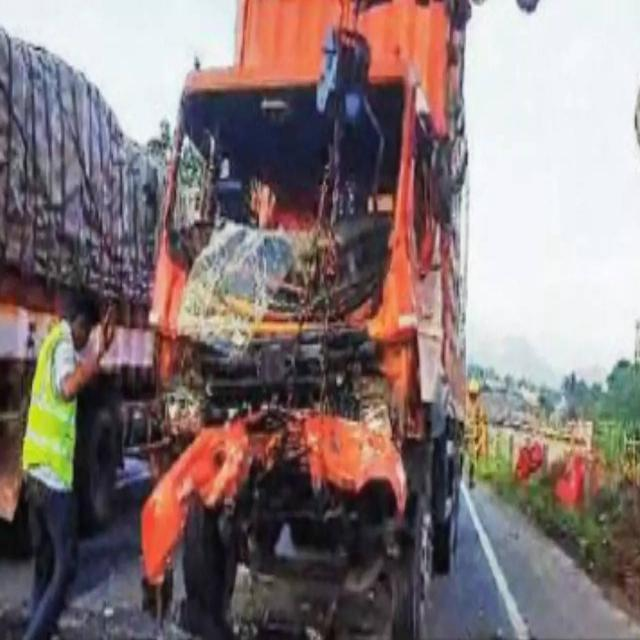accident: (141, 0, 470, 638)
